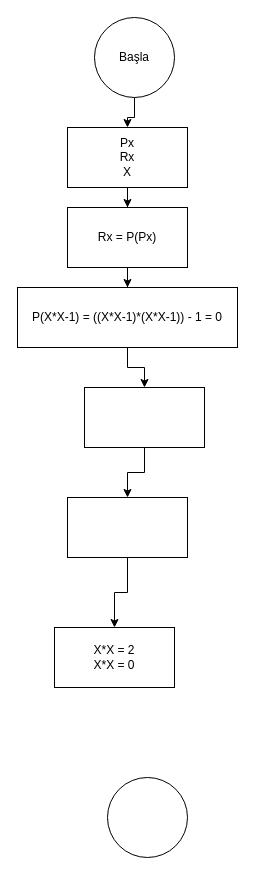
Image size: 255x875. Some labels were removed from this diagram. Here are the shapes that lost their labels. From the top down, the box of each, then its label:
(84, 386, 204, 448): ((X*X-1)*(X*X-1)) = 1
(66, 496, 188, 558): X*X-1 = 1 X*X-1 = -1
(106, 776, 188, 858): Dur
